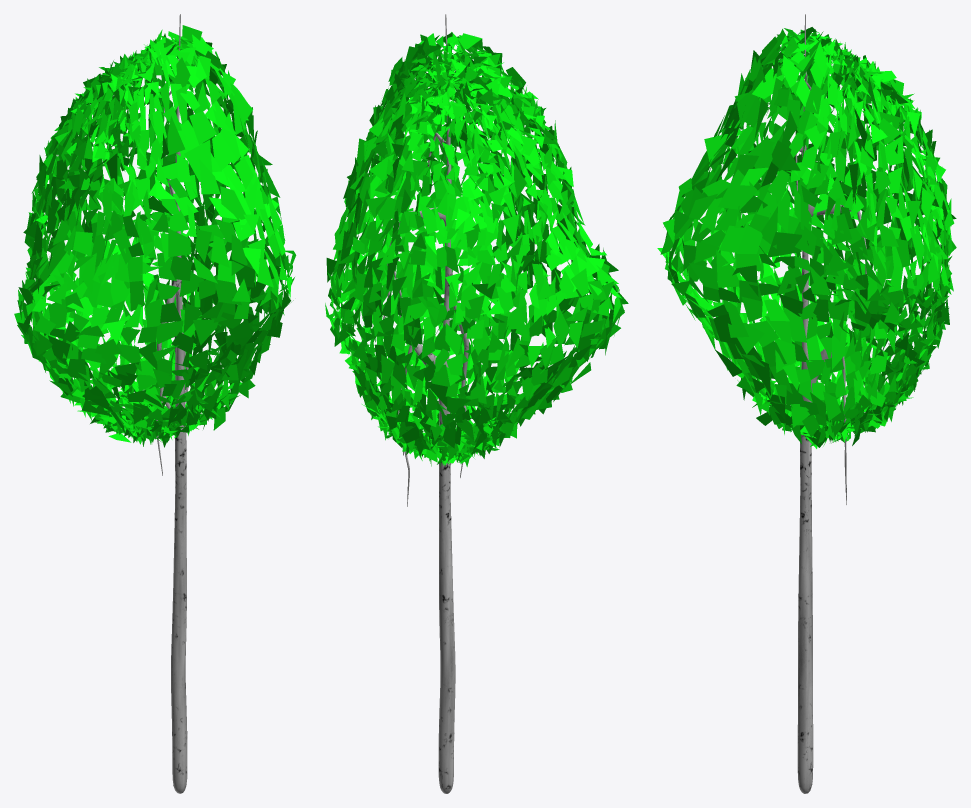
The model's file is Leaves31.002.fbx.
3 renders of one model, left to right at view 1: azimuth 30°, elevation 25°; view 2: azimuth 150°, elevation 25°; view 3: azimuth 270°, elevation 25°, orthographic.
Visible parts, largest first — view 1: Leaves31.002; view 2: Leaves31.002; view 3: Leaves31.002.
Part boxes in pixels (bbox=[...]): Leaves31.002: bbox=[14, 14, 296, 793]; Leaves31.002: bbox=[325, 14, 628, 793]; Leaves31.002: bbox=[657, 14, 956, 793].
Size of the model in its own units: 859 by 2574 by 896.
Materials: 2 (1 with a texture image).
